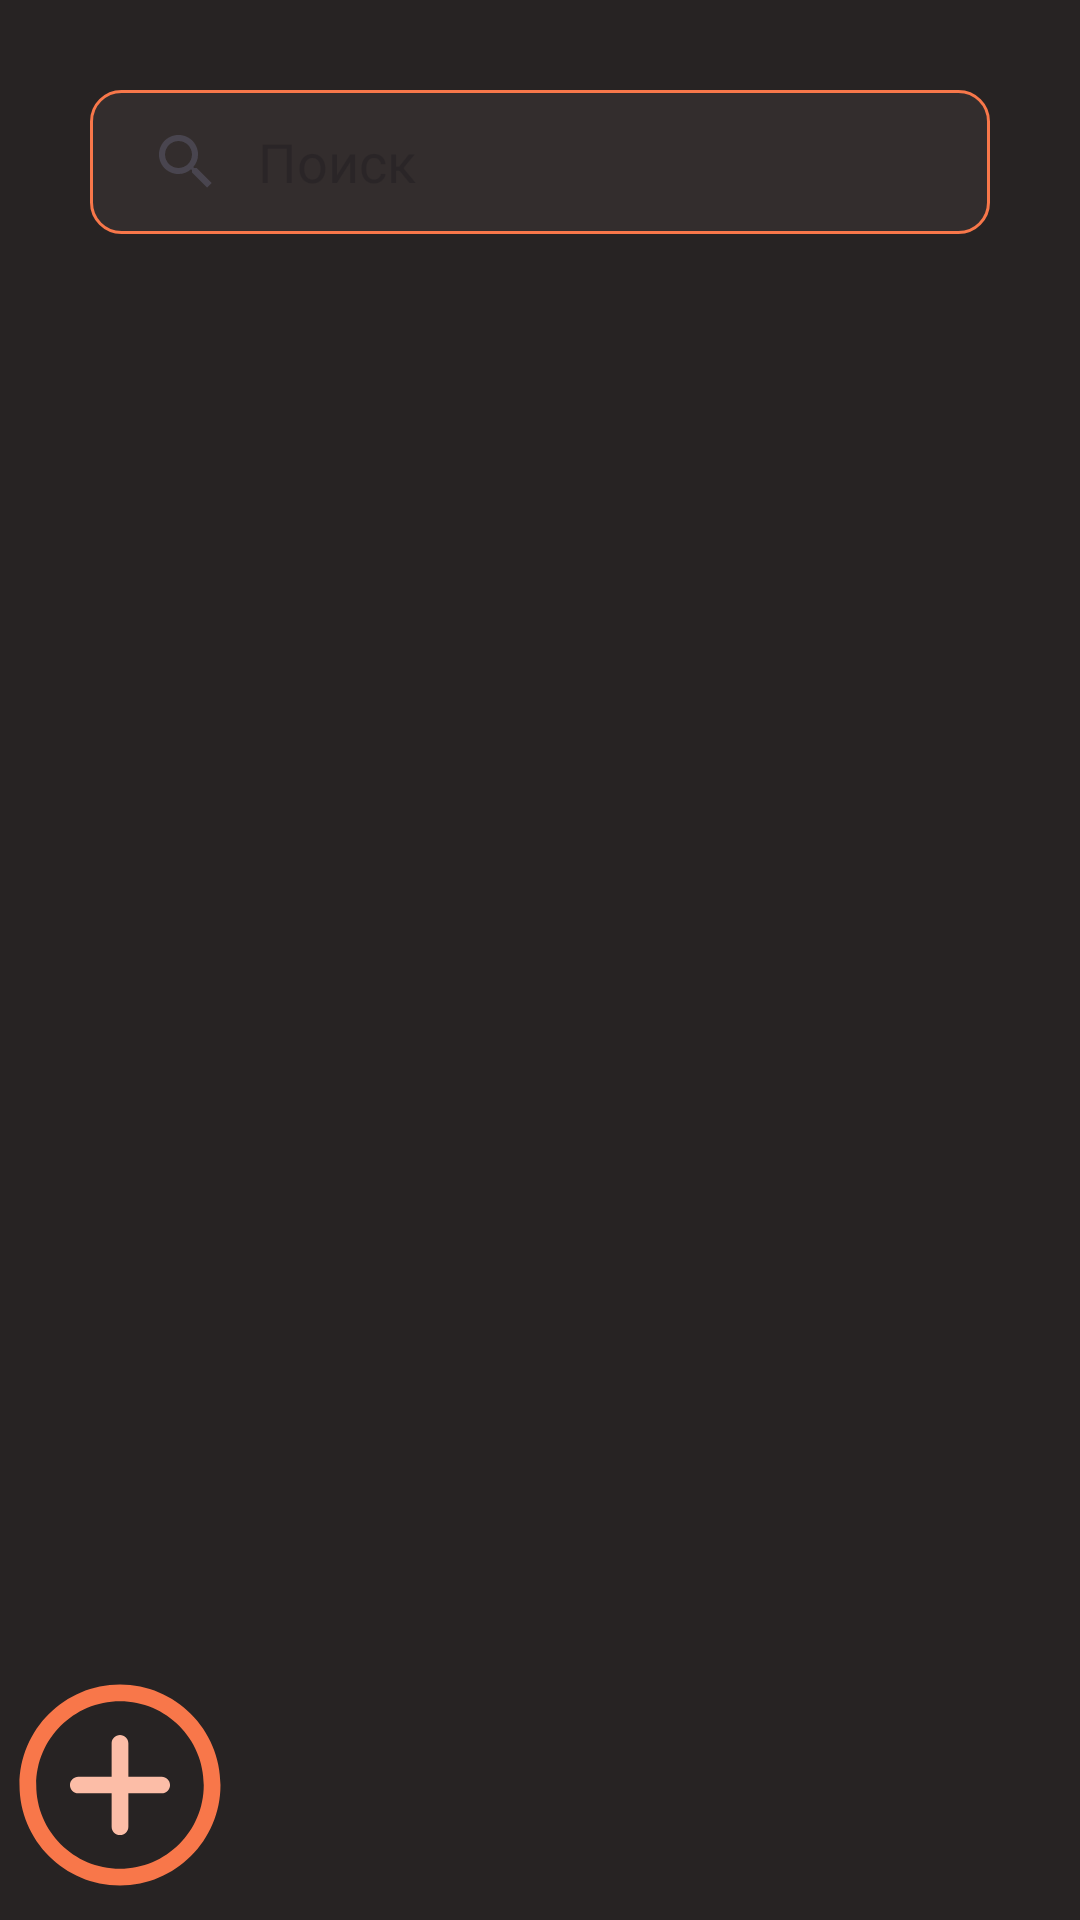

Icon bounding boxes for this 1080 x 1920 phone screenshot, format (left=x1, top=y1, right=x2, bottom=y2):
add: (left=19, top=1684, right=221, bottom=1886)
